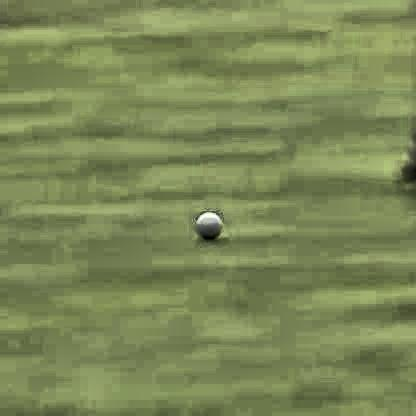golfball: (195, 207, 219, 235)
